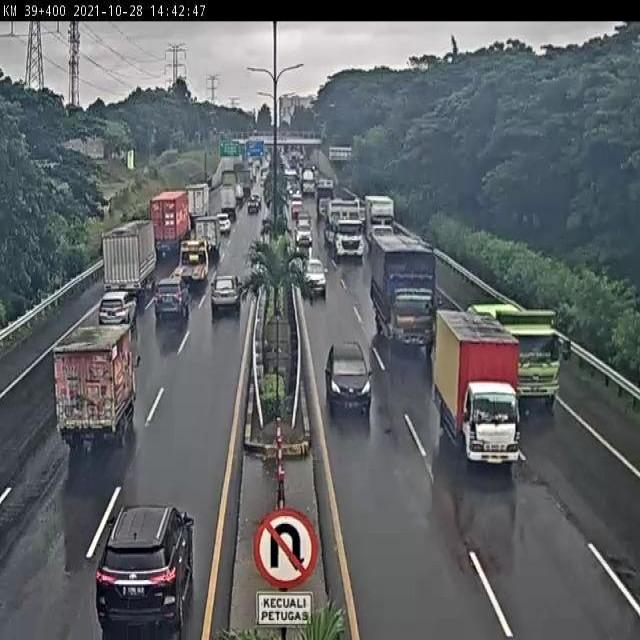car: (94, 508, 194, 637), (327, 342, 374, 414), (155, 273, 193, 319), (97, 291, 138, 325), (212, 273, 242, 308), (302, 256, 327, 297)
mid truck: (171, 235, 214, 280)
truck-l-: (467, 300, 561, 403), (368, 238, 437, 358), (364, 195, 395, 244)
truck-m-: (434, 307, 522, 464), (57, 321, 140, 451), (103, 219, 157, 292)
truck-xl-: (327, 199, 365, 260)
